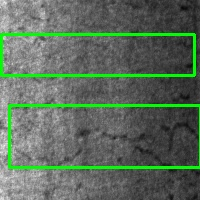crazing: (9, 105, 200, 167), (1, 34, 194, 75)
